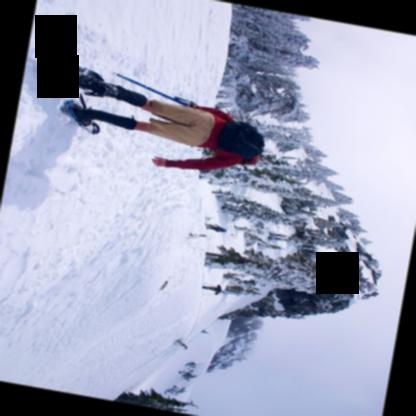backpack: (214, 122, 264, 162)
